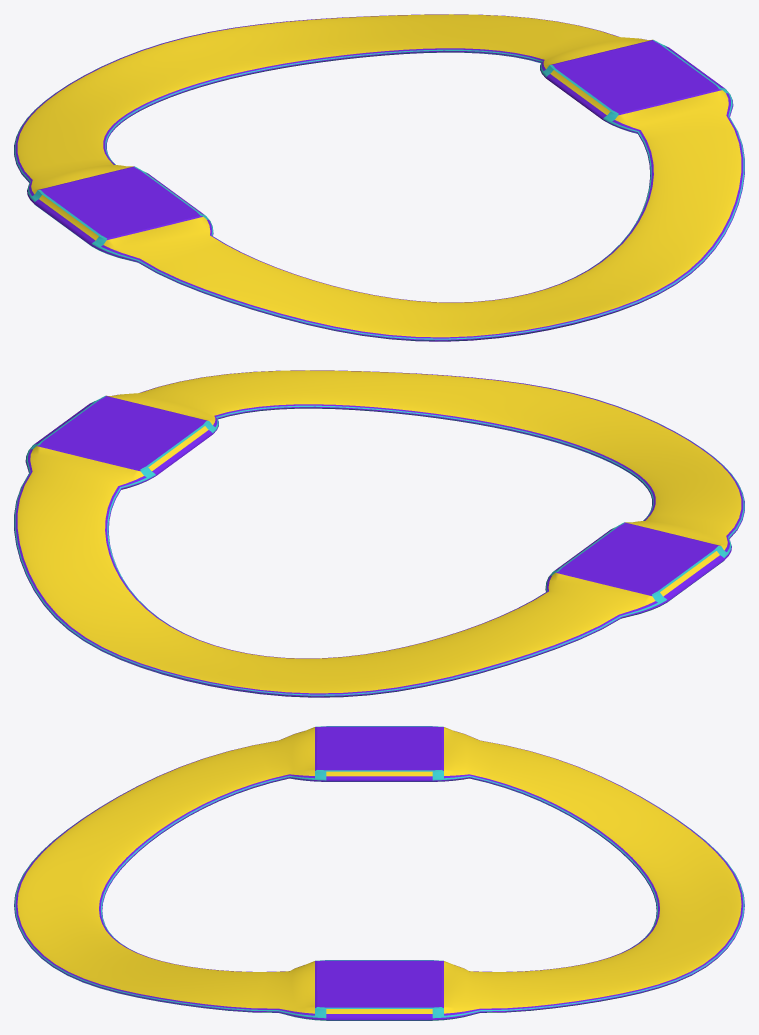
The model's file is Horseshoe Twotone.FBX.
3 views of the same model, one above another, from view 1: azimuth 30°, elevation 25°; view 2: azimuth 150°, elevation 25°; view 3: azimuth 270°, elevation 25° (orthographic). The views are drawn at different scales.
Parts seen in each view (by area): view 1: Loft002; view 2: Loft002; view 3: Loft002.
Part boxes in pixels (<box>): Loft002: <box>14,14,744,341</box>; Loft002: <box>14,370,744,697</box>; Loft002: <box>14,726,744,1020</box>.
Bounding box in the file's own units: 81.14 × 6.51 × 86.25.
